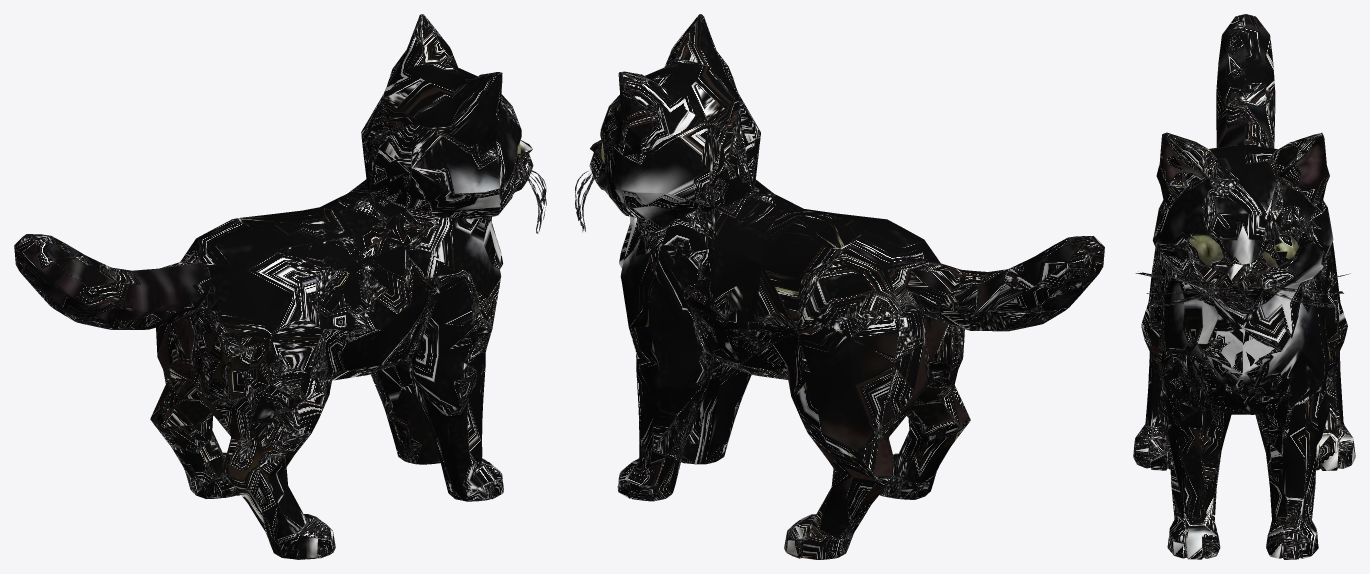
File: RUBYCAT-lo.glb
The picture shows the model from 3 angles, left to right: view 1: azimuth 30°, elevation 25°; view 2: azimuth 150°, elevation 25°; view 3: azimuth 270°, elevation 25°; orthographic projection.
Parts seen in each view (by area): view 1: fit; view 2: fit; view 3: fit.
Part boxes in pixels (x1,y1,x2,y2): fit: (14,14,546,559); fit: (575,14,1104,559); fit: (1133,14,1355,559).
Bounding box in the file's own units: 1.25 × 0.9993 × 0.4791.
Materials: 1 (1 with a texture image).
